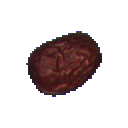gd: (21, 26, 112, 104)
